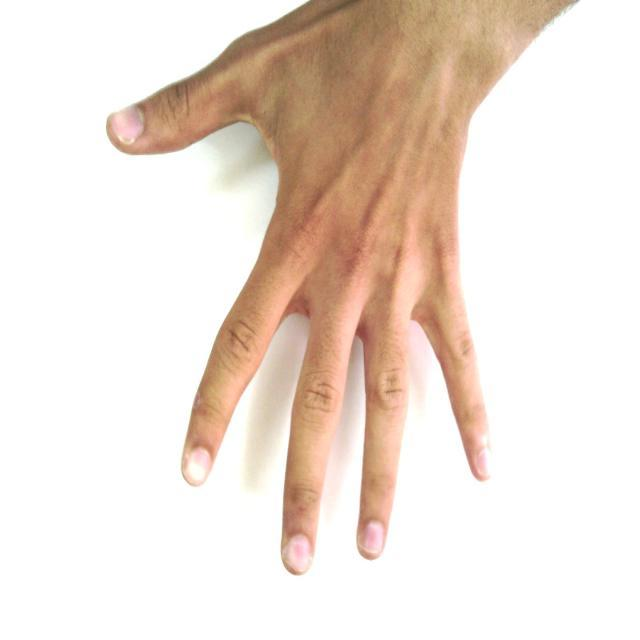Fingernail: (111, 108, 142, 142), (185, 448, 210, 485), (286, 536, 311, 572), (363, 522, 383, 555), (476, 450, 489, 478)
